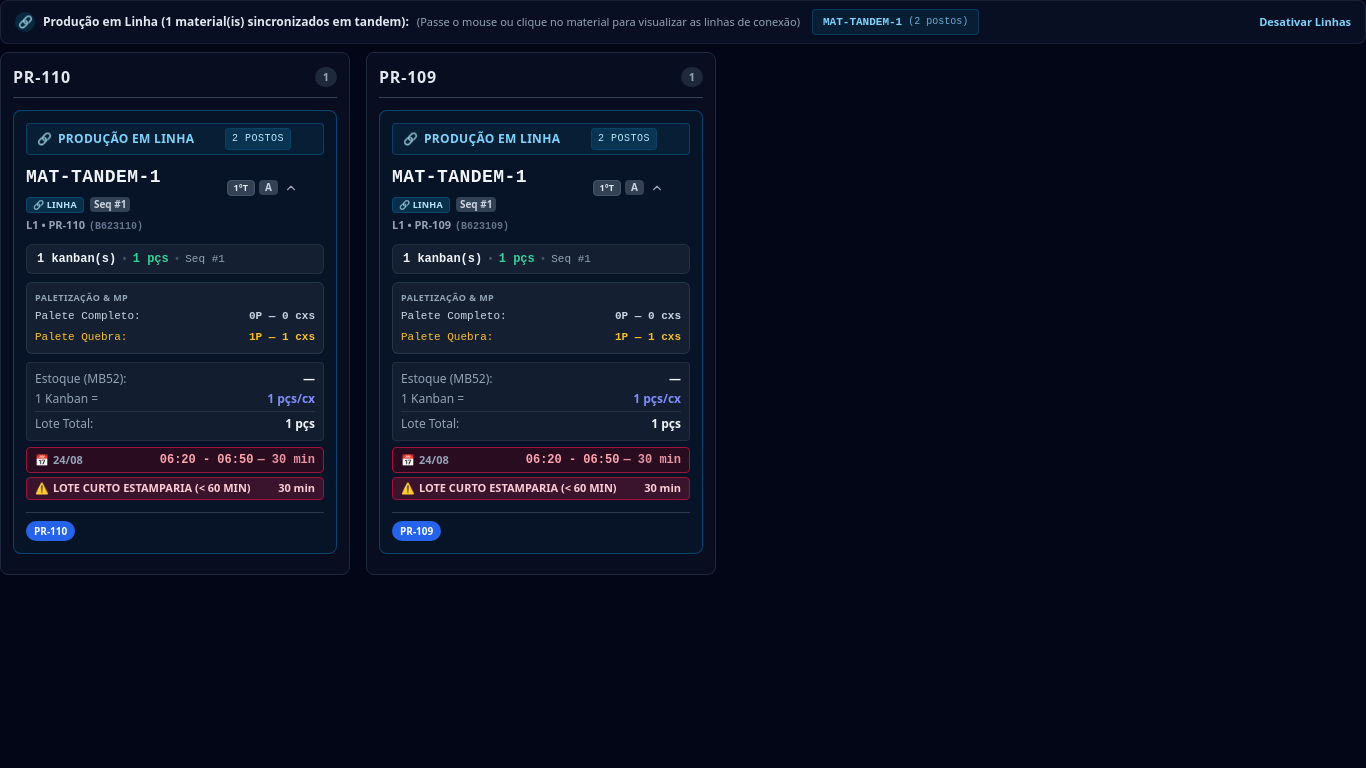
Test case: SequenciaBoard › does not render connection lines when idle, but draws them when a material is selected in the banner
# Clica no pill do material no banner
Click the button with test id "pill-material-MAT-TANDEM-1": coordinates (896, 22) [812,9,979,35]
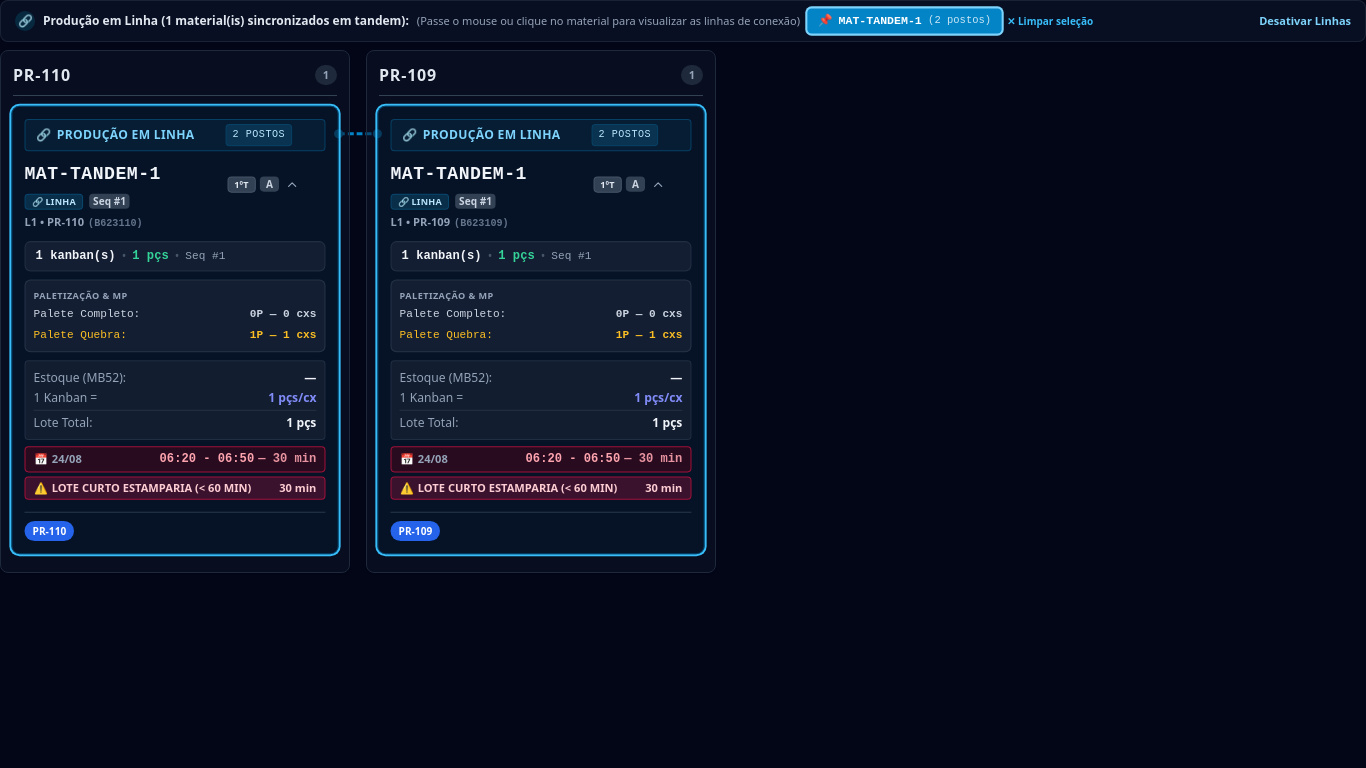
Expected: the text "📌" is shown, [818,13,832,29]
Expected: the button "✕ Limpar seleção" is shown, [1003,13,1097,29]
